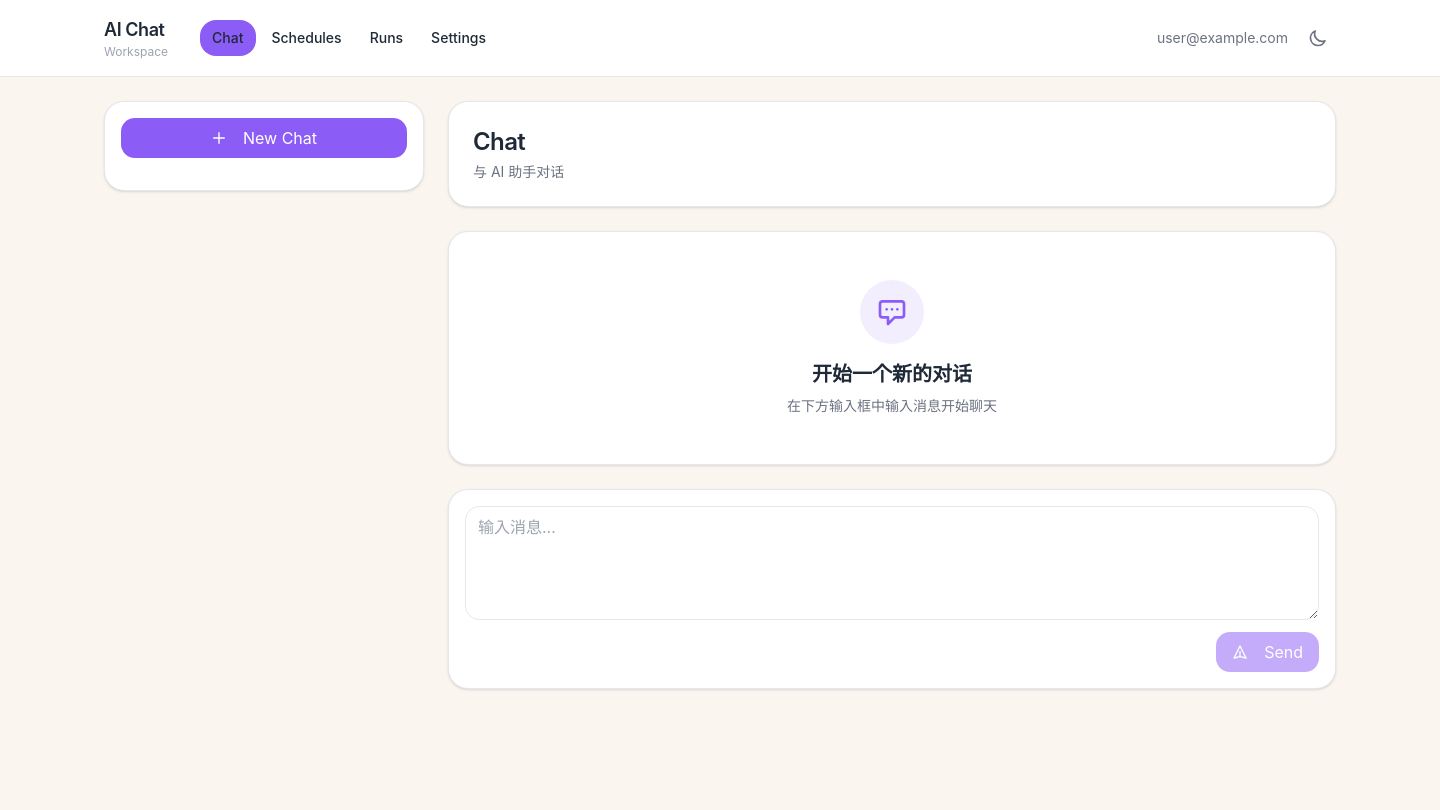
Scenario: ChatPage › binds useChat runtime into the store and refreshes sessions after finish
Expected: the heading "开始一个新的对话" is shown, [812,360,972,388]
Type "Hello AI" into the text box at (892, 563), box [465,506,1319,620]
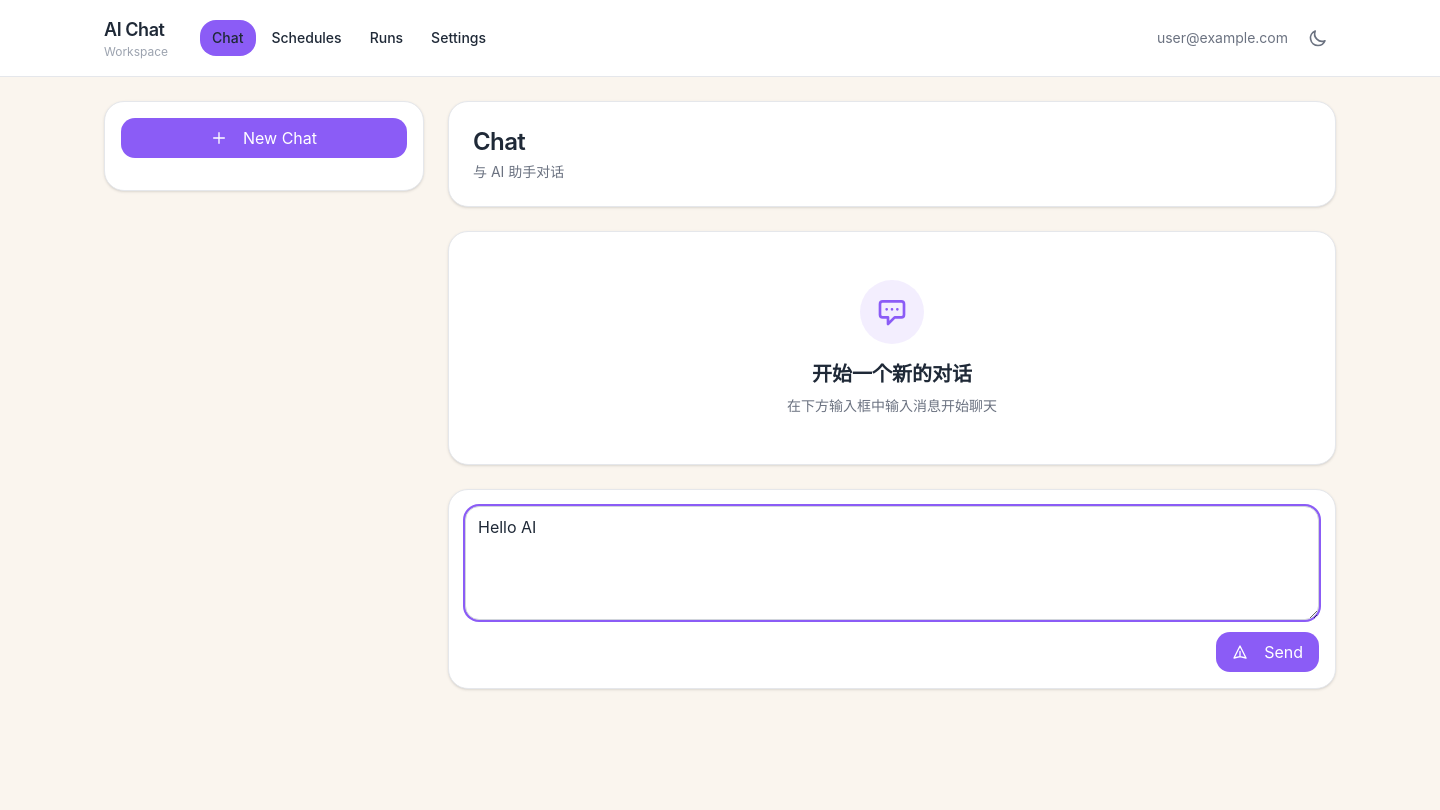
Click the button "Send" at (1268, 652), box [1216,632,1319,672]
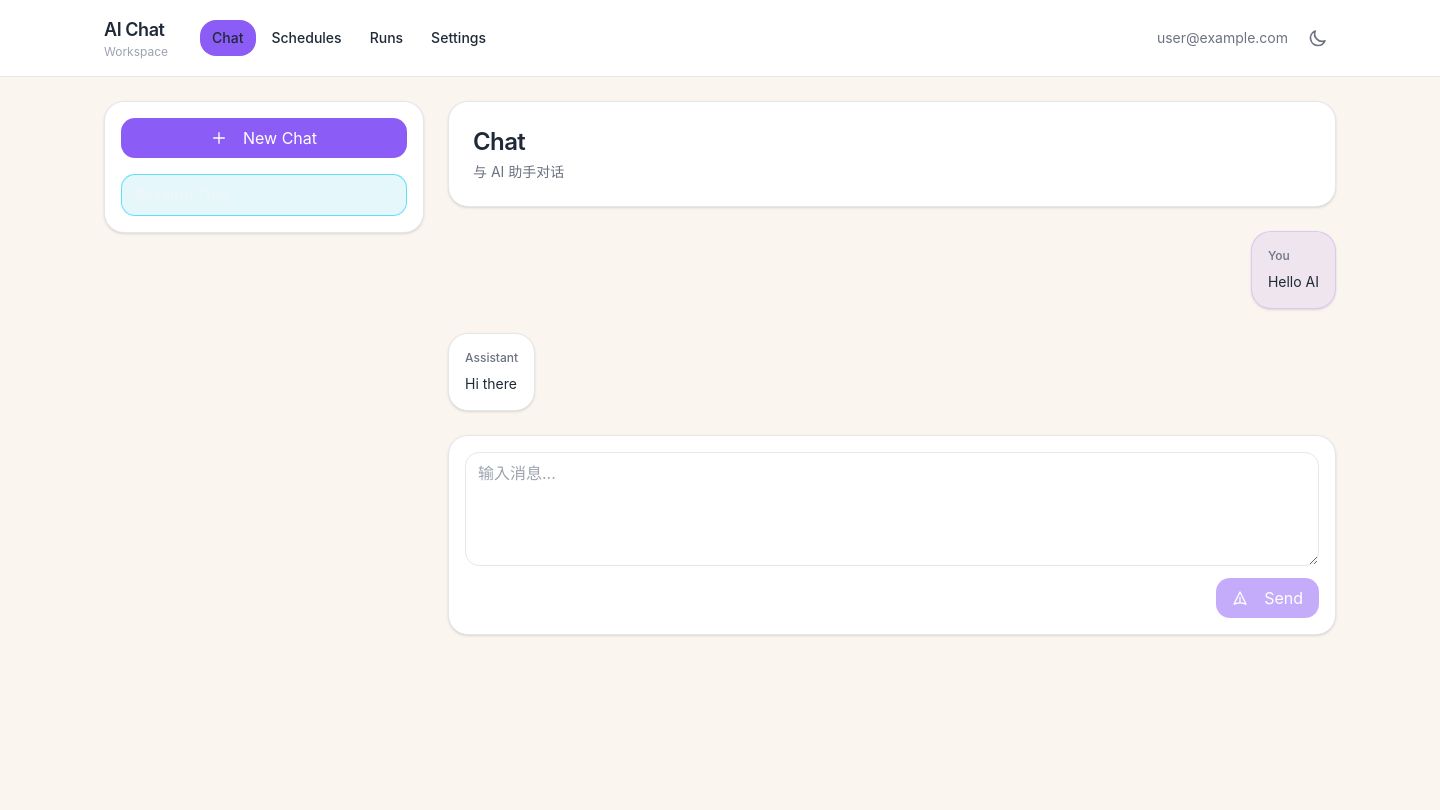
Expected: the text "Hi there" is shown, [465,374,518,394]
Expected: the button "Session One" is shown, [121,174,407,216]
